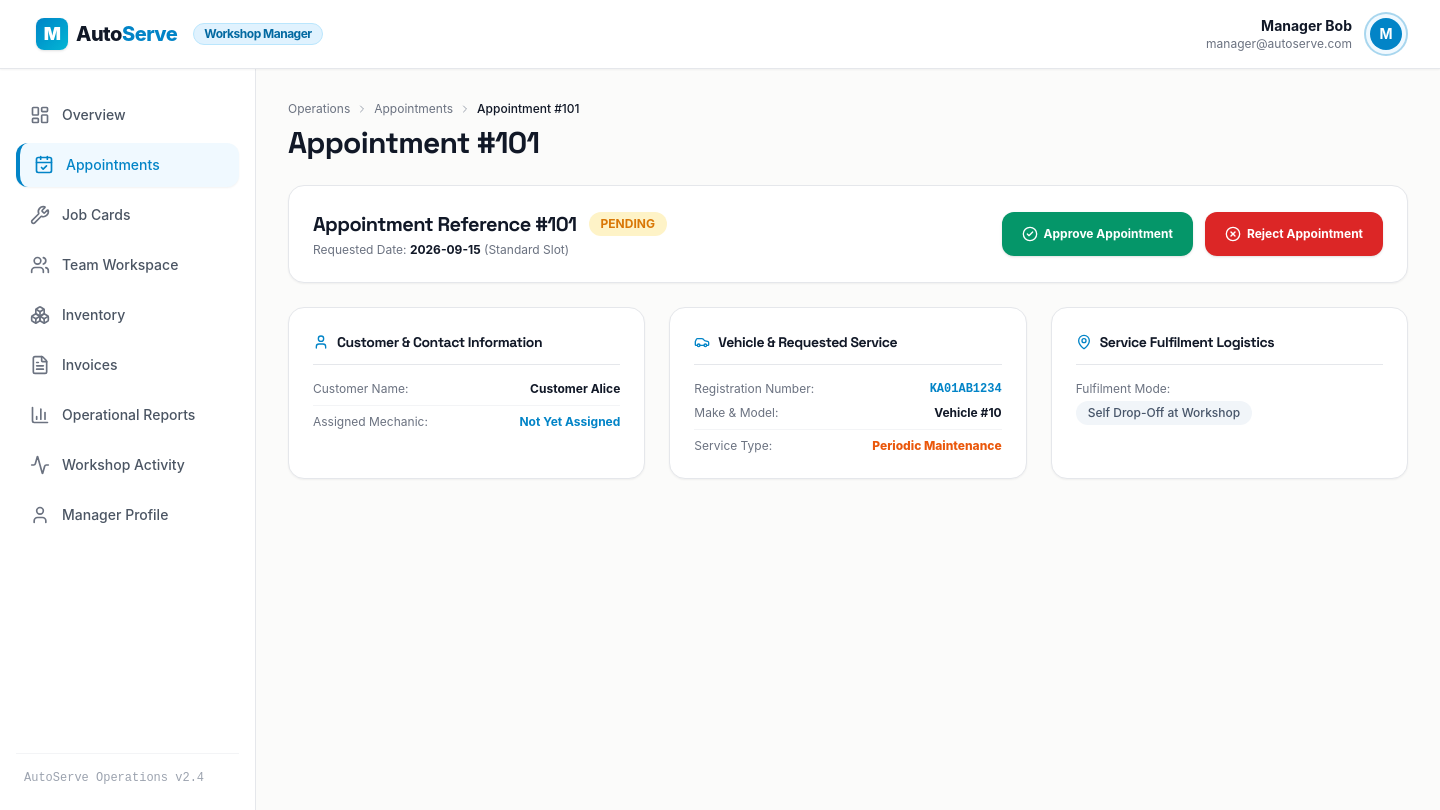
Manager Appointments Workflow › allows approving appointment and assigning mechanic
This screenshot has width=1440, height=810.
Expected: the heading "Appointment Reference #101" is shown, [313,210,576,238]
Click the button "Approve Appointment" at (1097, 234), box [1002,212,1193,256]
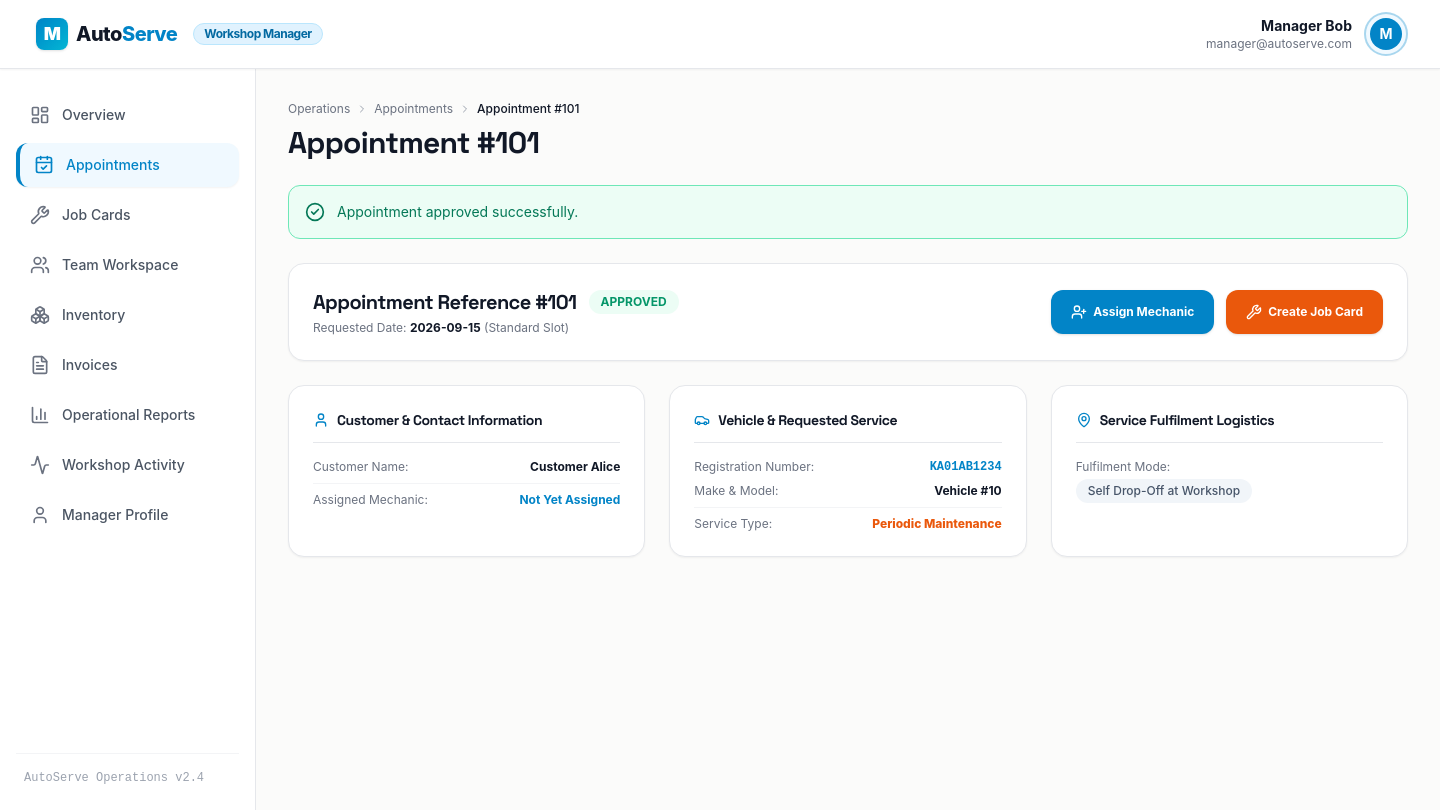
Result: the message reads "Appointment approved successfully." at [337,203,578,220]
